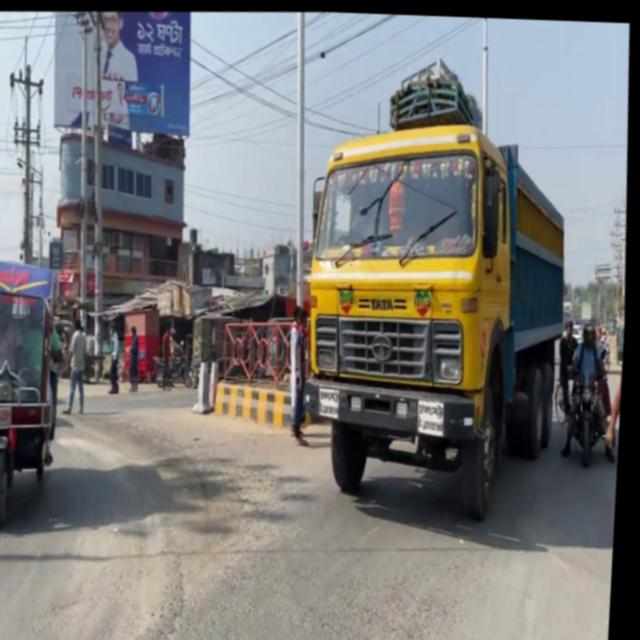Construction-barrier: (215, 375, 316, 433)
Fallen-tree: (556, 354, 625, 465), (152, 335, 202, 389)
Garbage-bin: (286, 301, 317, 435)
Light-pole: (284, 9, 318, 307)
Traffic-cone: (286, 46, 585, 524), (0, 246, 87, 536)
